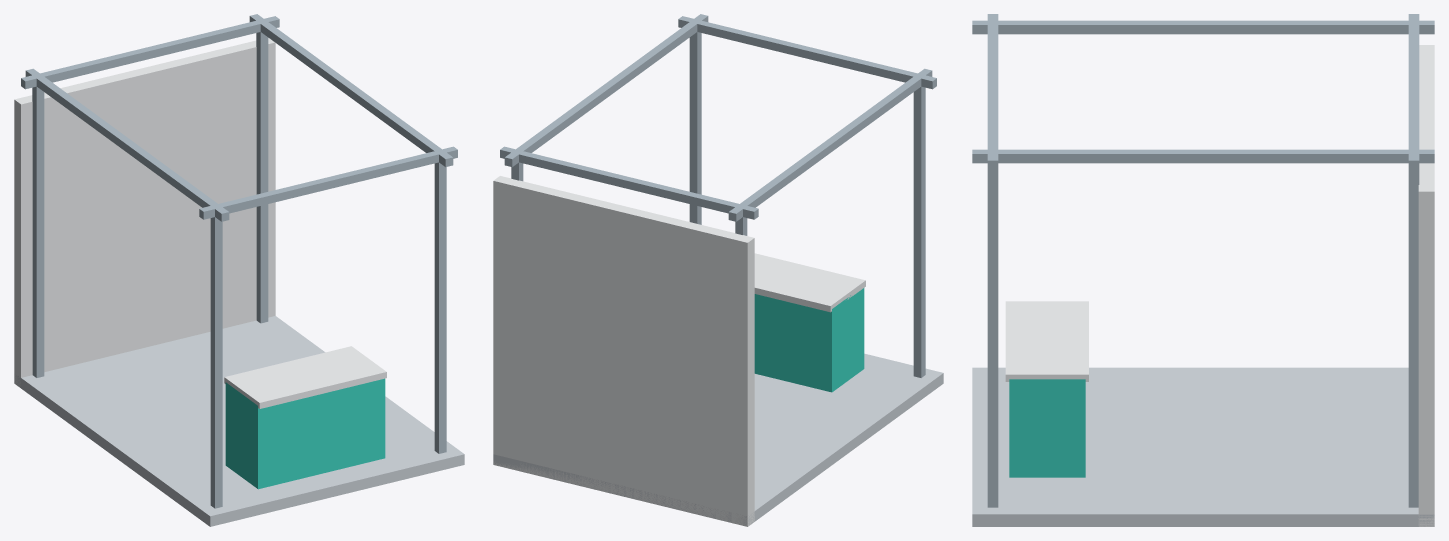
The picture shows the model from 3 angles, left to right: view 1: azimuth 30°, elevation 25°; view 2: azimuth 150°, elevation 25°; view 3: azimuth 270°, elevation 25°; orthographic projection. The views are drawn at different scales.
Parts seen in each view (by area): view 1: Exhibition Booth Concept; view 2: Exhibition Booth Concept; view 3: Exhibition Booth Concept.
Part boxes in pixels (left/top/right/bottom): Exhibition Booth Concept: left=14, top=14, right=464, bottom=526; Exhibition Booth Concept: left=493, top=14, right=943, bottom=526; Exhibition Booth Concept: left=972, top=14, right=1434, bottom=526.
Size of the model in its own units: 3 by 3.49 by 4.
